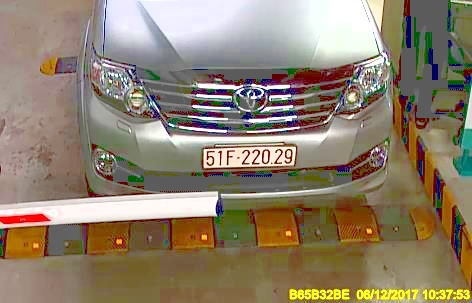plate: (198, 142, 298, 172)
